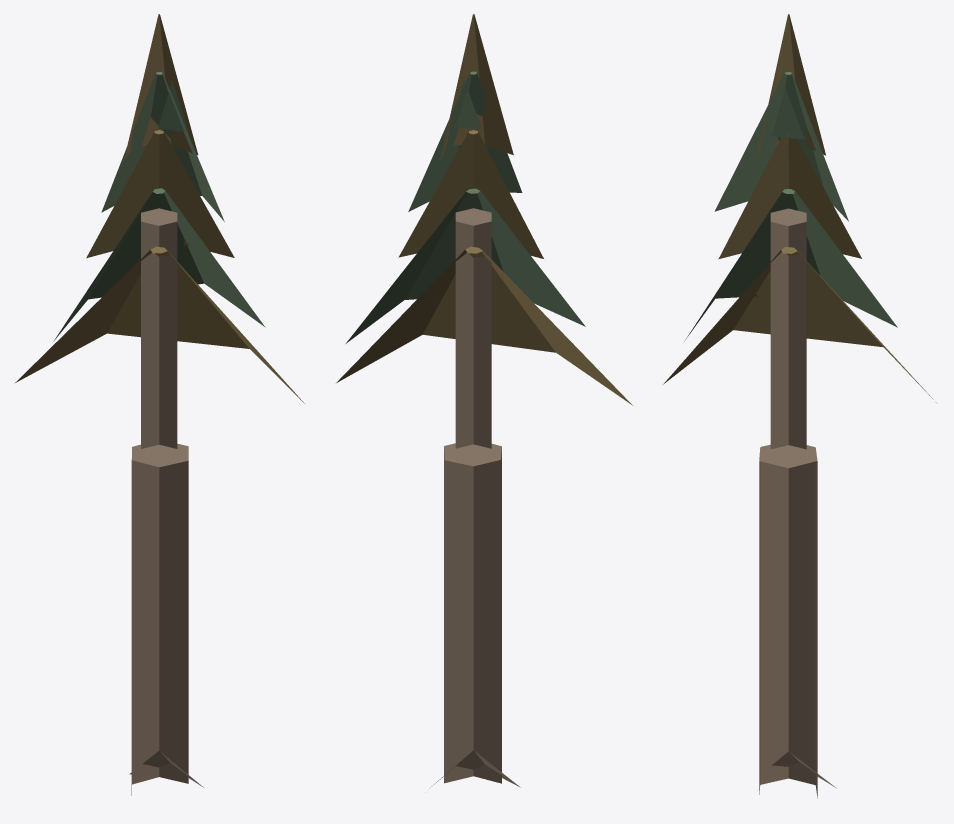
Rendered from shu.hongpi@fruiting__autumn.glb.
3 renders of one model, left to right at view 1: azimuth 30°, elevation 25°; view 2: azimuth 150°, elevation 25°; view 3: azimuth 270°, elevation 25°, orthographic.
Visible parts, largest first — view 1: shu.hongpi@fruiting__autumn; view 2: shu.hongpi@fruiting__autumn; view 3: shu.hongpi@fruiting__autumn.
Part boxes in pixels (x1,y1,x2,y2): shu.hongpi@fruiting__autumn: (14, 14, 304, 795); shu.hongpi@fruiting__autumn: (336, 14, 632, 788); shu.hongpi@fruiting__autumn: (663, 14, 936, 798).
Size of the model in its own units: 6.51 by 19.56 by 6.32.
